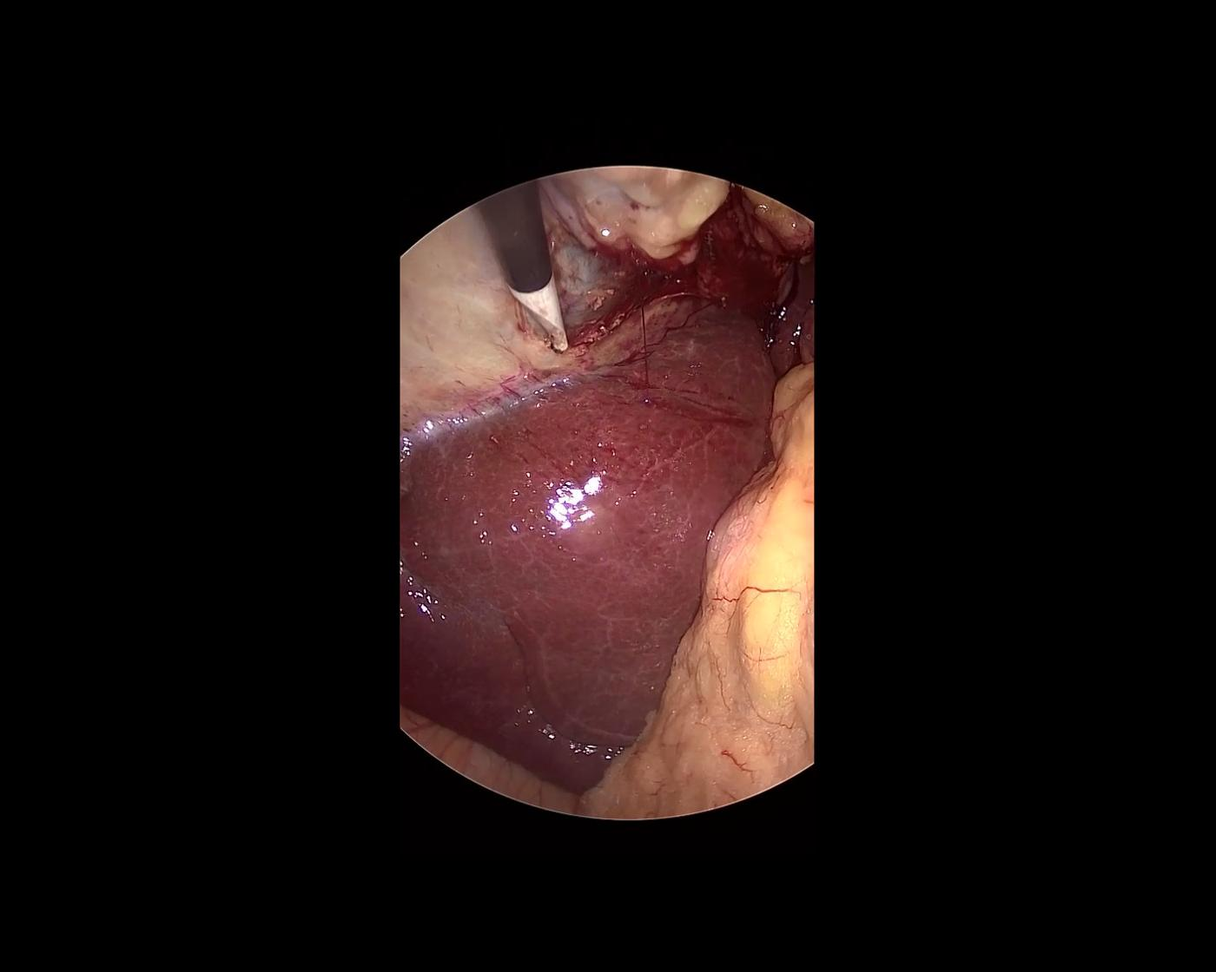Cautery: (476, 178, 570, 361)
Gallbladder: (330, 102, 777, 446)
Liver: (304, 209, 822, 806)
